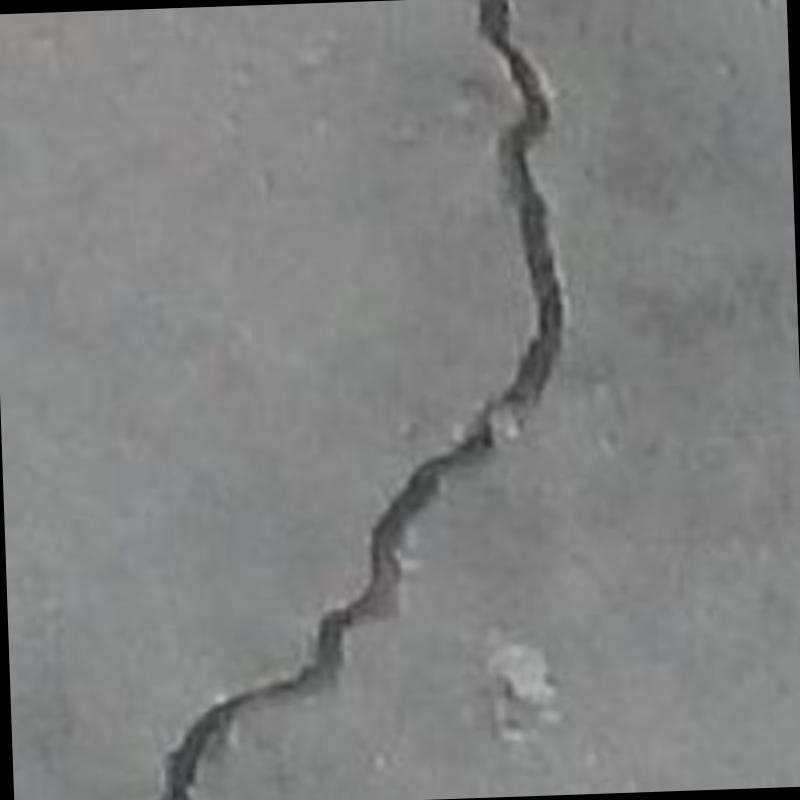pothole: (154, 0, 567, 800)
